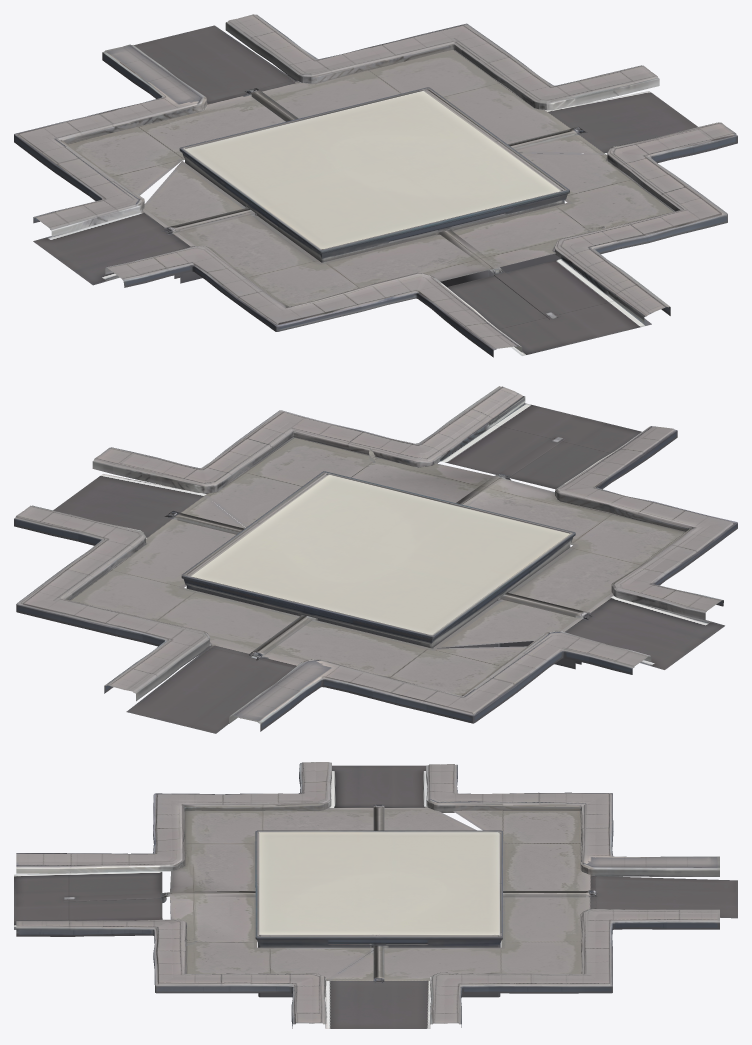
Rendered from platform+floor+3d+model.fbx.
3 views of the same model, one above another, from view 1: azimuth 30°, elevation 25°; view 2: azimuth 150°, elevation 25°; view 3: azimuth 270°, elevation 25° (orthographic). The views are drawn at different scales.
Visible parts, largest first — view 1: tripo_1c87d9c7_578d_4bdf_a1b7_b9f92670c300; view 2: tripo_1c87d9c7_578d_4bdf_a1b7_b9f92670c300; view 3: tripo_1c87d9c7_578d_4bdf_a1b7_b9f92670c300.
Part boxes in pixels (x1,y1,x2,y2): tripo_1c87d9c7_578d_4bdf_a1b7_b9f92670c300: (14,14,737,357); tripo_1c87d9c7_578d_4bdf_a1b7_b9f92670c300: (14,386,737,733); tripo_1c87d9c7_578d_4bdf_a1b7_b9f92670c300: (14,762,737,1028).
Size of the model in its own units: 0.8735 by 0.0933 by 0.9995.
1 material, 1 textured.
